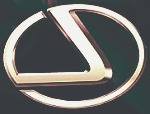Lexus: (1, 2, 147, 112)
